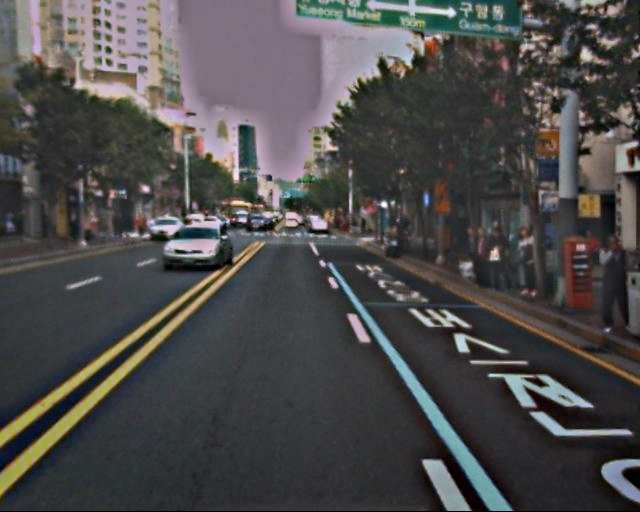person: (584, 233, 634, 332), (512, 227, 541, 298), (487, 227, 512, 288), (468, 227, 492, 285), (461, 228, 482, 280)
